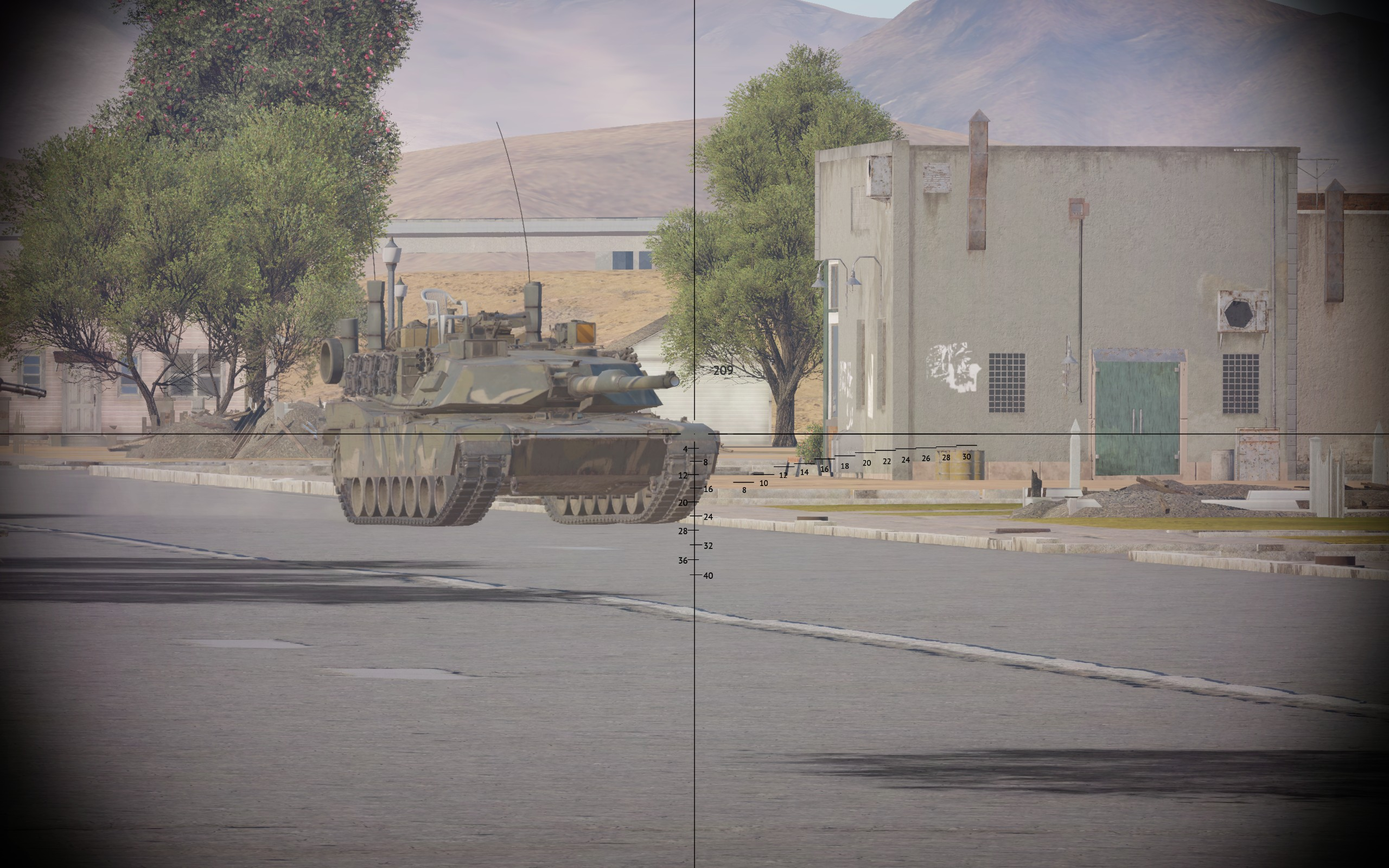abrams: (318, 284, 721, 527)
